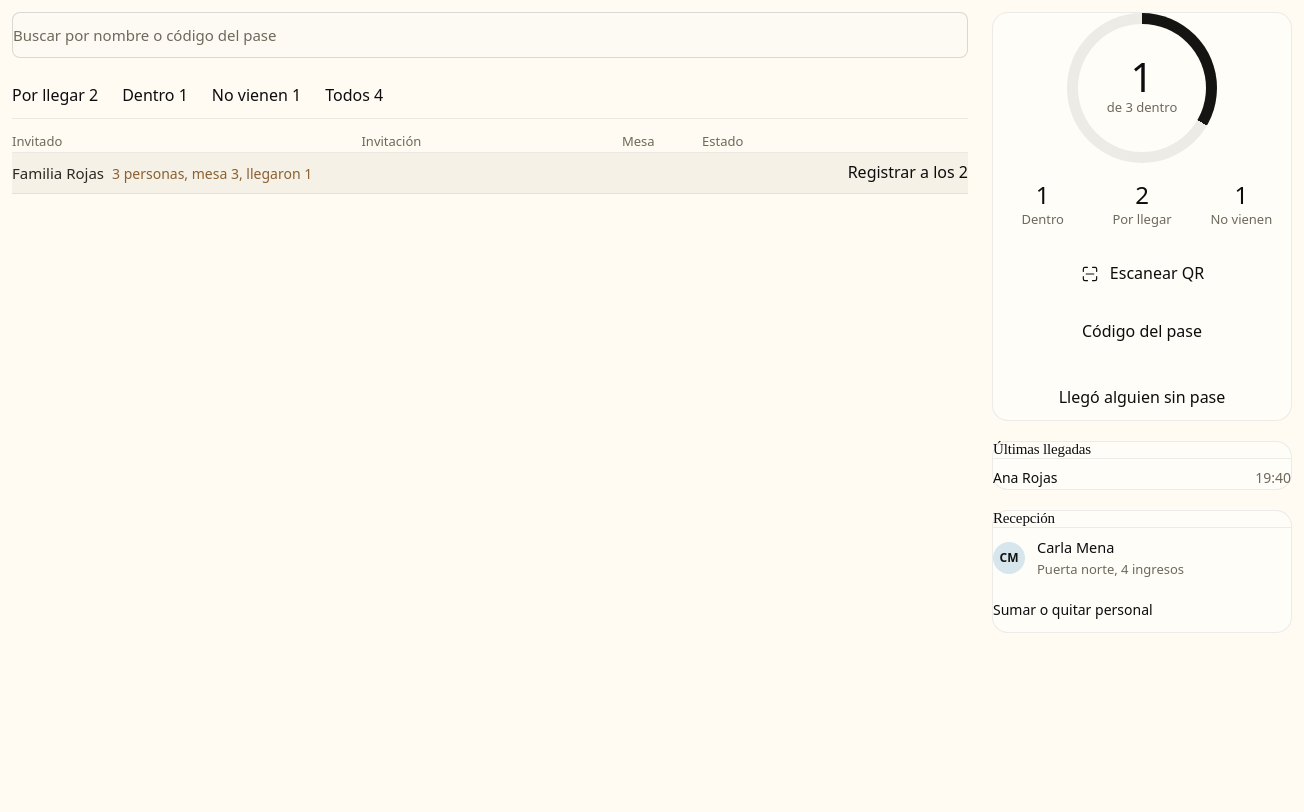
Scenario: ControlDeIngreso · alguien ya lo registró › lo dice con su hora, en vez de fingir que acaba de entrar
Step 1. Click the button "Familia Rojas 3 personas, mesa 3, llegaron 1" → [162, 173], box top-left (12, 161), bottom-right (312, 185)
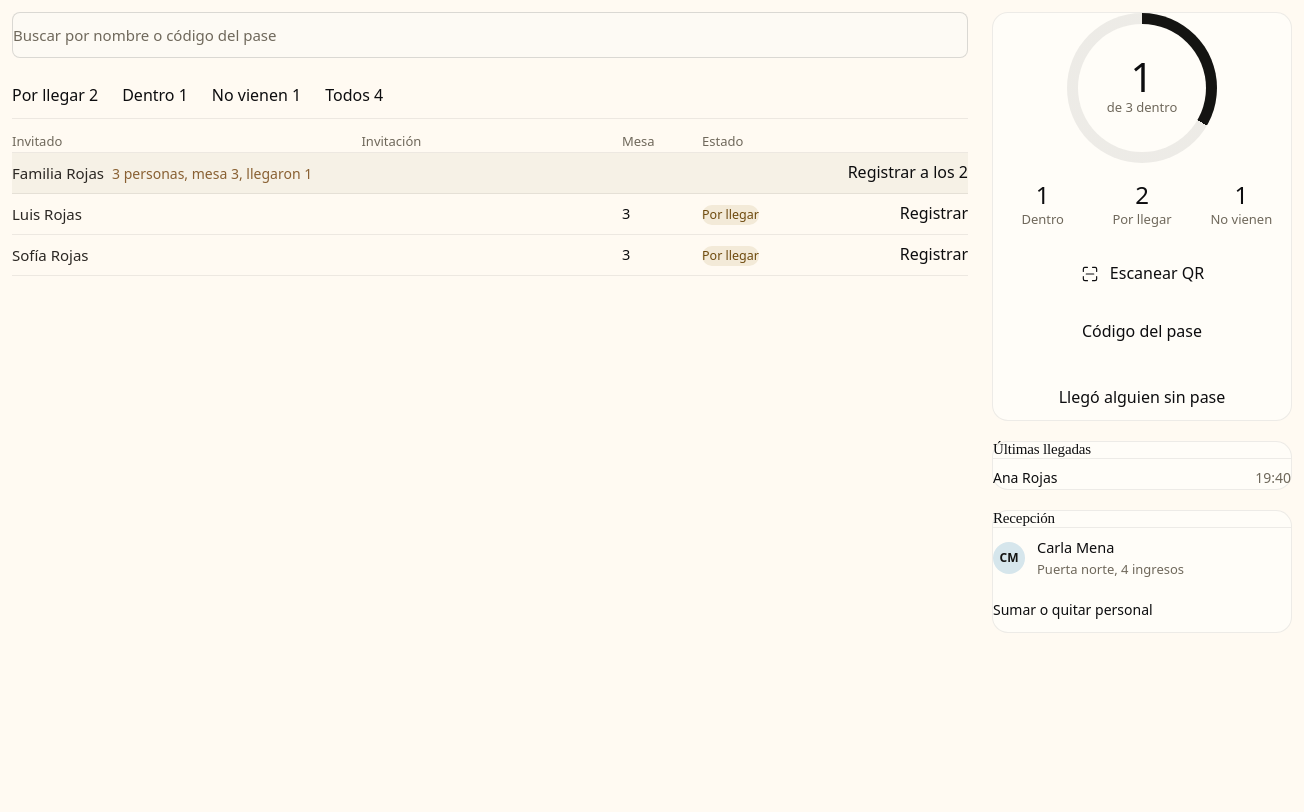
Step 2. Click the button with aria-label "Registrar a Luis Rojas" → [934, 214], box top-left (900, 194), bottom-right (968, 234)
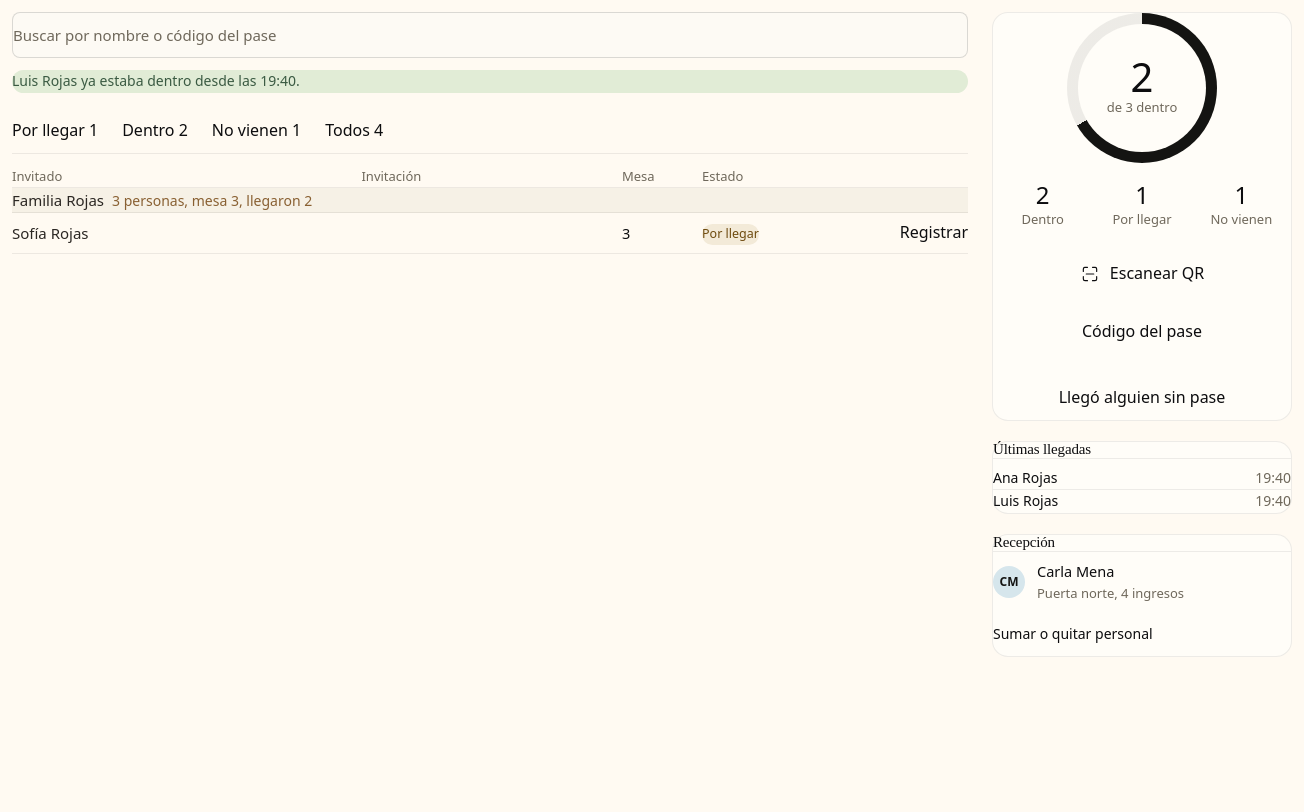
Result: the message shows "Luis Rojas ya estaba dentro desde las 19:40" at top-left (12, 71), bottom-right (300, 90)
